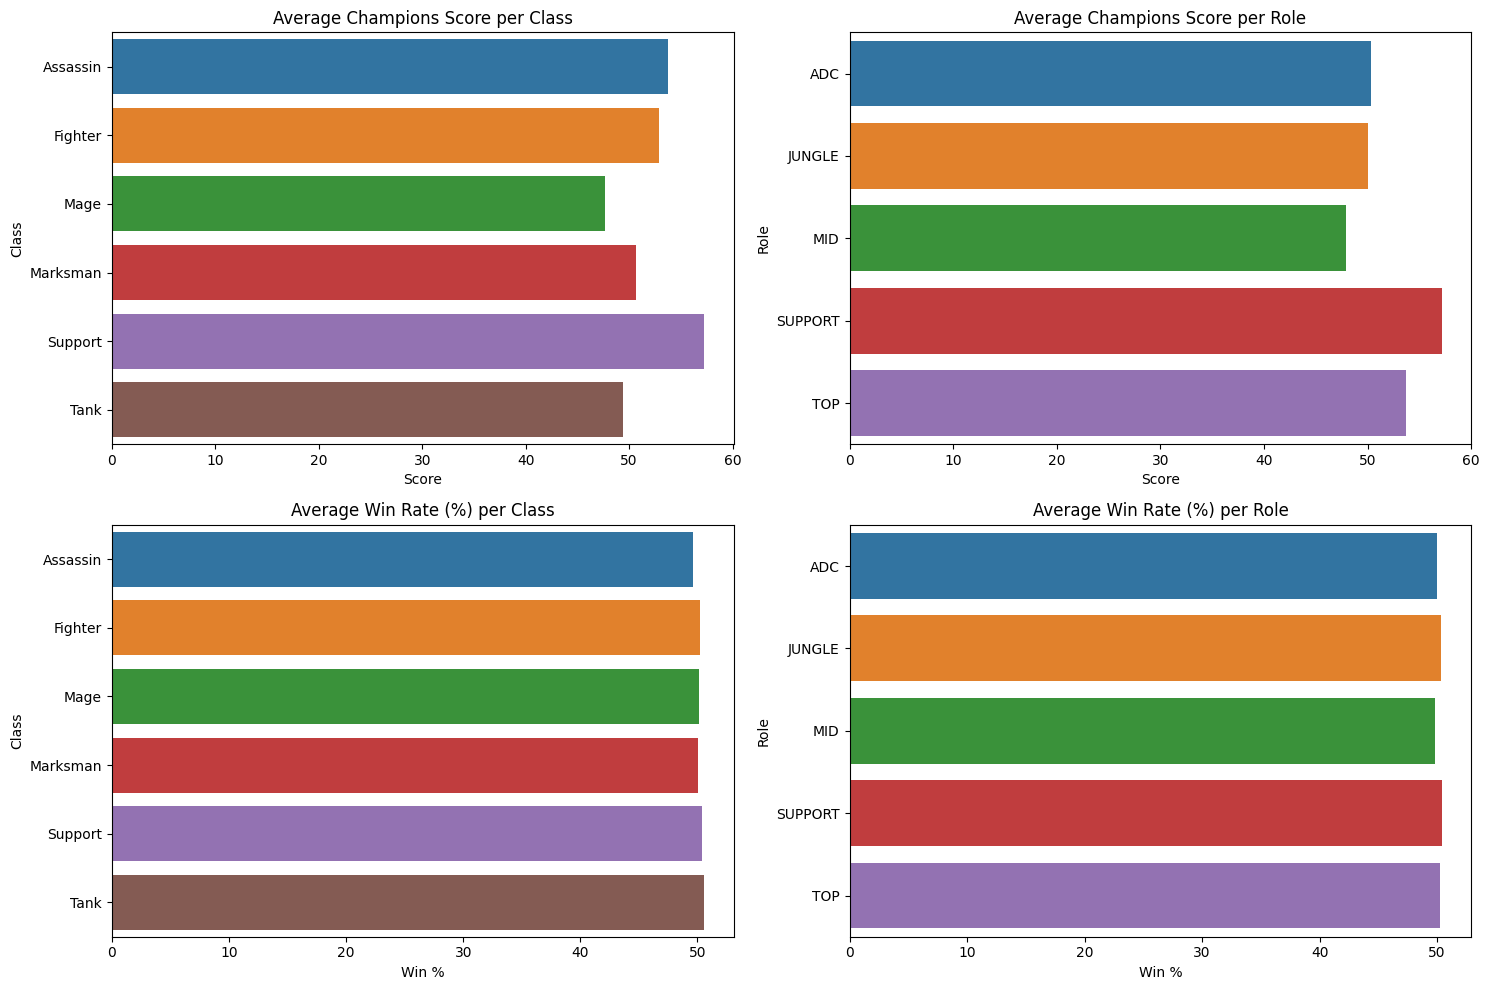

Layout of this report page (visuals, bound fields, positions):
{"tool":"tableau","page":{"name":"Dashboard 1","canvas":[1000,800],"ordinal":0},"visuals":[{"type":"worksheet","title":"Sheet 3","mark":"Automatic","rows":["fall","Meteorite_Landings_20231028.csv_1F803E414B8C4B4B9D0B80996B7E"],"cols":["year"],"box":[8,8,984,441]},{"type":"worksheet","title":"Sheet 1","mark":"Automatic","rows":["name"],"cols":["mass (g)"],"box":[8,449,492,343]},{"type":"worksheet","title":"Sheet 2","mark":"Automatic","rows":["recclass"],"cols":["recclass"],"box":[500,449,492,343]}]}

Visuals, with their boxes on the page's 1000x800 design canvas (x1, y1, x2, y2). These are canvas units, not pixel positions in the 1489x990 screenshot, which may show the page scaled, cropped or inside an application window:
"Sheet 3" worksheet: {"left": 8, "top": 8, "right": 992, "bottom": 449}
"Sheet 1" worksheet: {"left": 8, "top": 449, "right": 500, "bottom": 792}
"Sheet 2" worksheet: {"left": 500, "top": 449, "right": 992, "bottom": 792}
